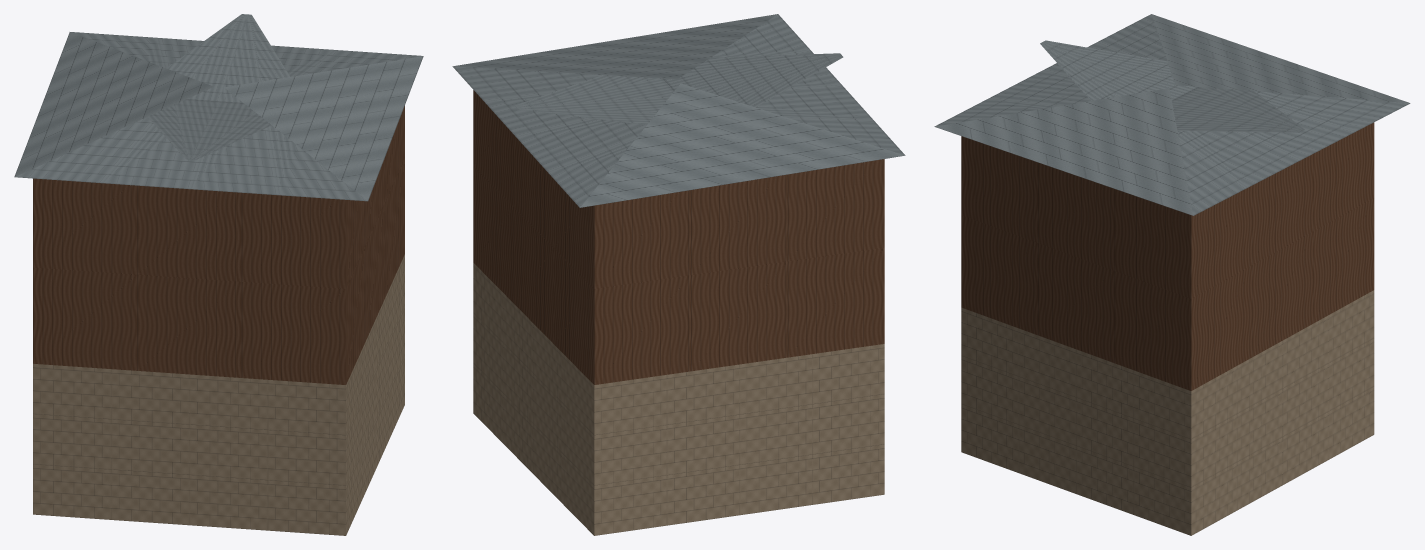
The model's file is bld_c1_22_501.gltf.
The picture shows the model from 3 angles, left to right: view 1: azimuth 30°, elevation 25°; view 2: azimuth 150°, elevation 25°; view 3: azimuth 270°, elevation 25°; orthographic projection. The views are drawn at different scales.
Parts seen in each view (by area): view 1: bld_c1_22_501; view 2: bld_c1_22_501; view 3: bld_c1_22_501.
Part boxes in pixels (<box>): bld_c1_22_501: <box>14,14,423,535</box>; bld_c1_22_501: <box>452,14,905,535</box>; bld_c1_22_501: <box>934,14,1410,535</box>.
Size of the model in its own units: 15.26 by 12.6 by 15.22.
3 materials, 3 textured.
